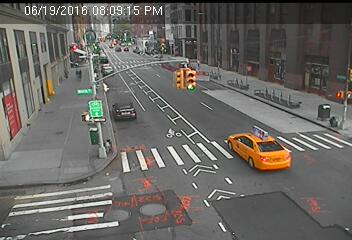neg: (58, 105, 87, 144), (183, 78, 194, 93)
pos: (71, 66, 82, 80)
